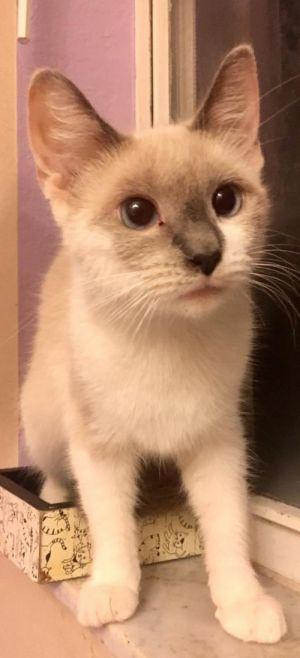siamese: (20, 41, 279, 345)
